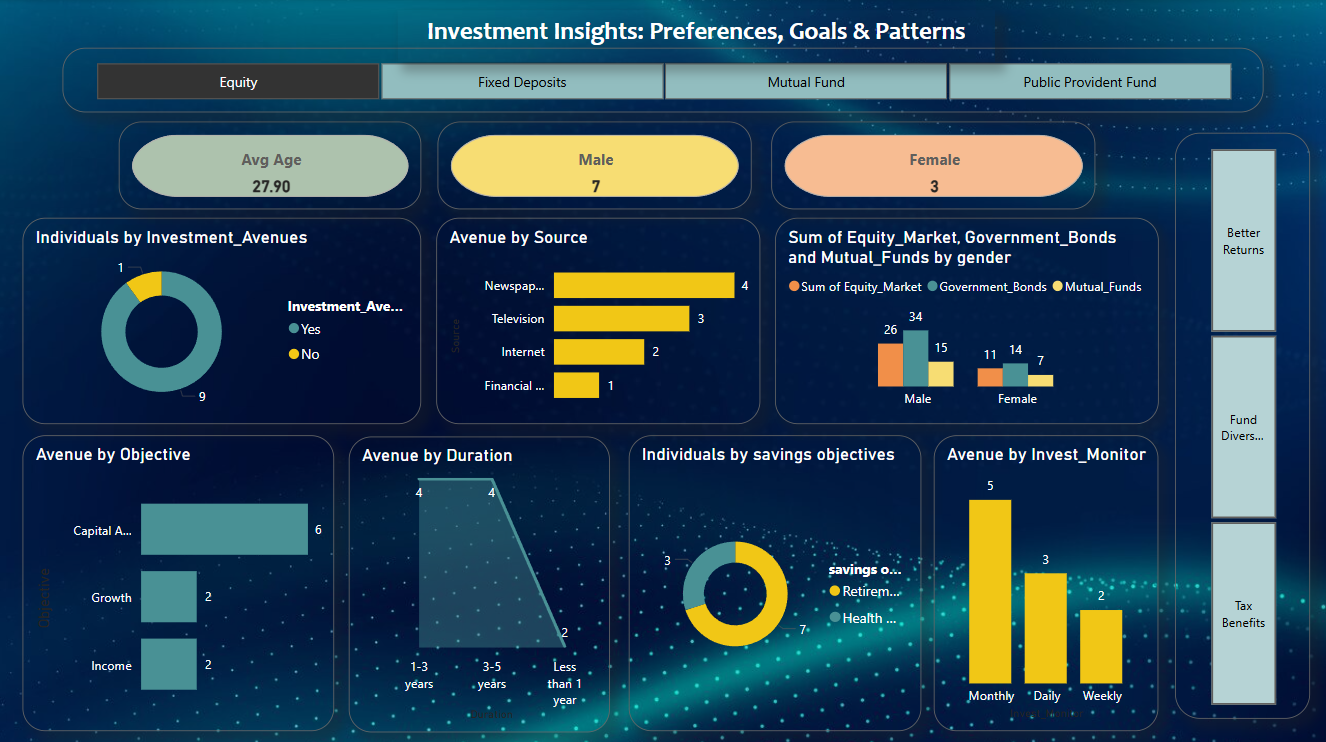

Layout of this report page (visuals, bound fields, positions):
{"tool":"powerbi","page":{"name":"Final Dashboard","canvas":[1280,720],"ordinal":0},"visuals":[{"type":"donutChart","fields":{"Category":["Data_set 2.What are your savings objectives?"],"Y":["CountNonNull(Data_set 2.gender)"]},"box":[606.8,421,282.3,285.9],"z":0},{"type":"donutChart","fields":{"Category":["Data_set 2.Investment_Avenues"],"Y":["CountNonNull(Data_set 2.gender)"]},"box":[21.7,211.1,384.9,199.1],"z":1000},{"type":"cardVisual","fields":{"Data":["Data_set 2.Avg Age"]},"box":[114.6,118.2,292,84.5],"z":2000},{"type":"clusteredColumnChart","fields":{"Y":["Sum(Data_set 2.Equity_Market)","Sum(Data_set 2.Government_Bonds)","Sum(Data_set 2.Mutual_Funds)"],"Category":["Data_set 2.gender"]},"box":[748,211.1,370.4,199.1],"z":3000},{"type":"cardVisual","fields":{"Data":["Data_set 2.Male"]},"box":[422.3,118.2,302.8,84.5],"z":4000},{"type":"cardVisual","fields":{"Data":["Data_set 2.Female"]},"box":[744.4,118.2,312.5,84.5],"z":5000},{"type":"clusteredBarChart","fields":{"Category":["Data_set 2.Objective"],"Y":["CountNonNull(Data_set 2.Avenue)"]},"box":[21.7,421,300.4,285.9],"z":6000},{"type":"slicer","fields":{"Values":["Data_set 2.Avenue"]},"box":[60.3,47.1,1159.4,62.7],"z":7000},{"type":"areaChart","fields":{"Category":["Data_set 2.Duration"],"Y":["CountNonNull(Data_set 2.Avenue)"]},"box":[336.6,422.3,252.1,285.9],"z":8000},{"type":"clusteredColumnChart","fields":{"Category":["Data_set 2.Invest_Monitor"],"Y":["CountNonNull(Data_set 2.Avenue)"]},"box":[901.2,421,217.2,285.9],"z":9000},{"type":"slicer","fields":{"Values":["Data_set 2.Reason_Mutual"]},"box":[1134.1,129.1,130.3,565.8],"z":10000},{"type":"clusteredBarChart","fields":{"Category":["Data_set 2.Source"],"Y":["CountNonNull(Data_set 2.Avenue)"]},"box":[421,211.1,312.5,199.1],"z":11000},{"type":"textbox","box":[383.6,10.9,576.7,49.5],"z":12000}]}

Visuals, with their boxes in screenshot pixels (x1, y1, x2, y2), scaled from the page's 1280x720 canvas onto the 1326x742 screenshot:
donutChart - Data_set 2.What are your savings objectives? x CountNonNull(Data_set 2.gender): (629, 434, 921, 728)
donutChart - Data_set 2.Investment_Avenues x CountNonNull(Data_set 2.gender): (22, 218, 421, 423)
cardVisual - Data_set 2.Avg Age: (119, 122, 421, 209)
clusteredColumnChart - Sum(Data_set 2.Equity_Market) x Sum(Data_set 2.Government_Bonds): (775, 218, 1159, 423)
cardVisual - Data_set 2.Male: (437, 122, 751, 209)
cardVisual - Data_set 2.Female: (771, 122, 1095, 209)
clusteredBarChart - Data_set 2.Objective x CountNonNull(Data_set 2.Avenue): (22, 434, 334, 728)
slicer - Data_set 2.Avenue: (62, 49, 1264, 113)
areaChart - Data_set 2.Duration x CountNonNull(Data_set 2.Avenue): (349, 435, 610, 730)
clusteredColumnChart - Data_set 2.Invest_Monitor x CountNonNull(Data_set 2.Avenue): (934, 434, 1159, 728)
slicer - Data_set 2.Reason_Mutual: (1175, 133, 1310, 716)
clusteredBarChart - Data_set 2.Source x CountNonNull(Data_set 2.Avenue): (436, 218, 760, 423)
textbox: (397, 11, 995, 62)
